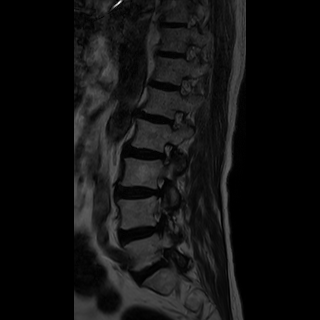LFS0: (151, 137, 179, 170), (165, 105, 187, 134)
